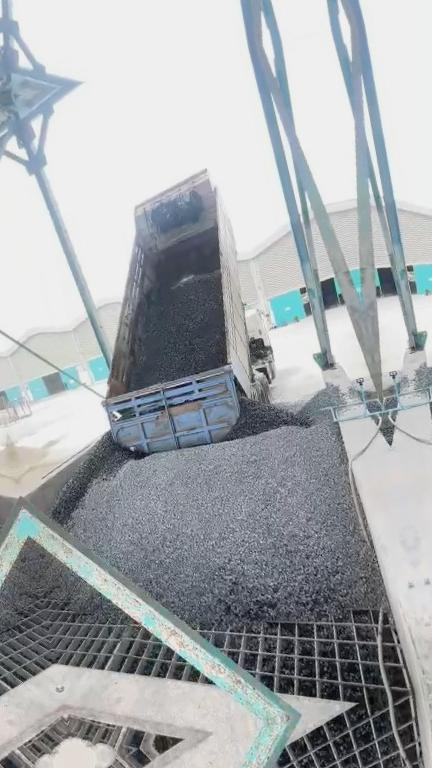gravel: (49, 382, 386, 629), (127, 233, 227, 391), (30, 541, 119, 621)
sand: (10, 437, 77, 495)
